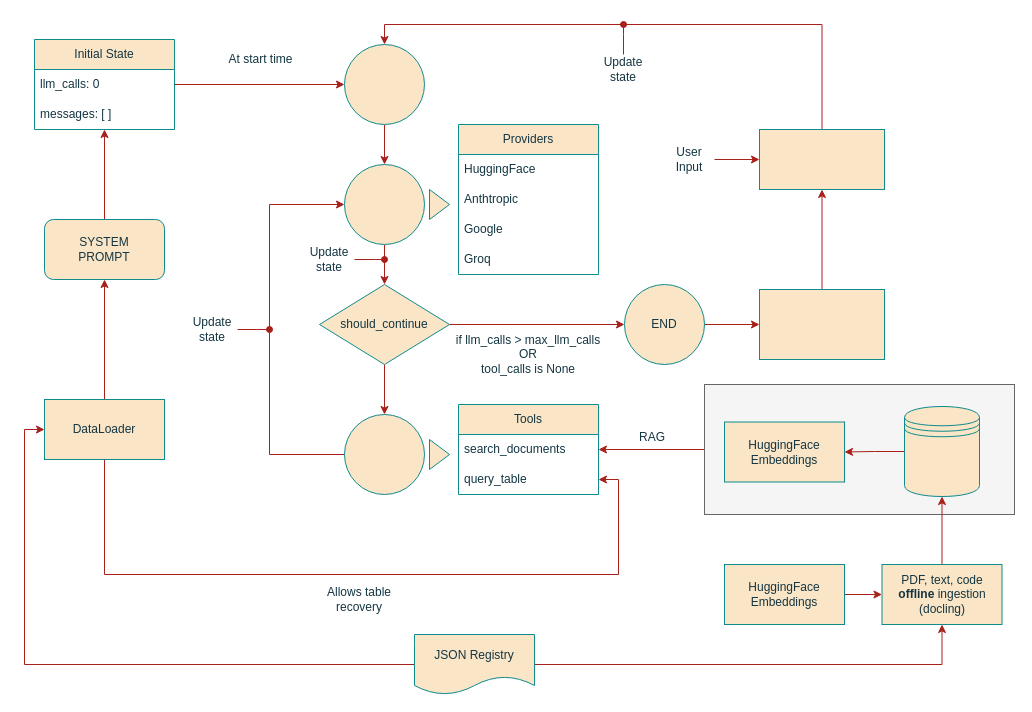
This 1032x712 diagram has some shape labels left out. Here are the shapes that lost their labels. From the top down, the centre of each, then its label:
At [384,84]: "START".
At [821,159]: "Frontend waits for user input".
At [384,204]: "llm_call".
At [821,324]: "Frontend (Gradio) shows last AI Message".
At [384,454]: "tool_node".
At [942,451]: "ChromaDB".
